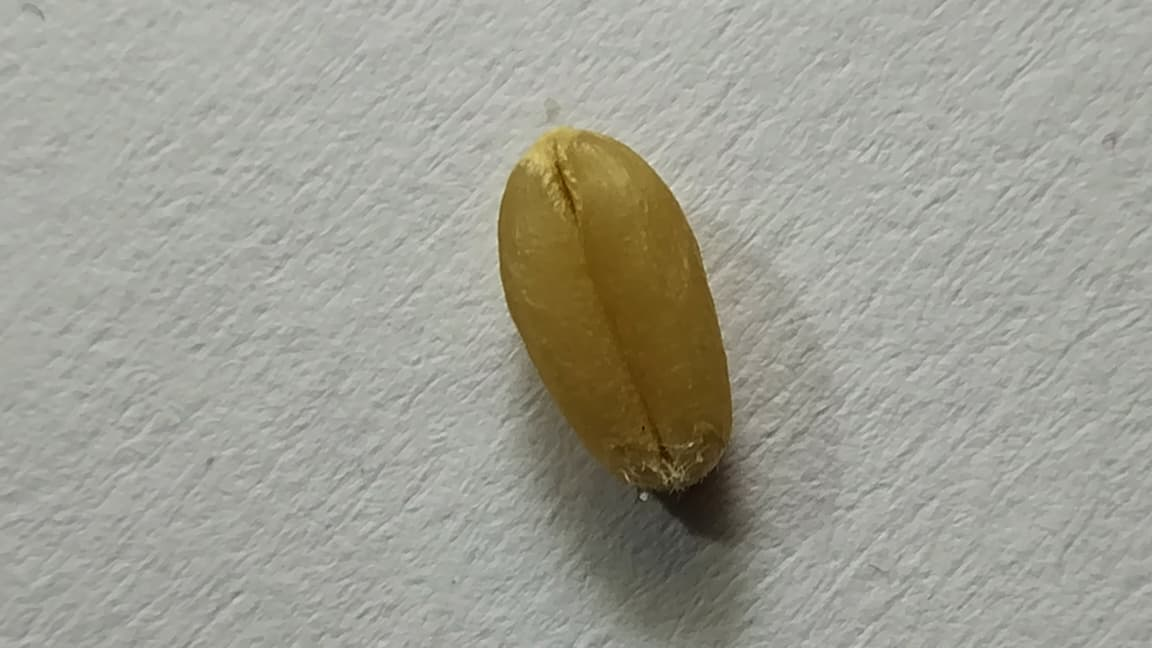healthy: (499, 126, 731, 491)
